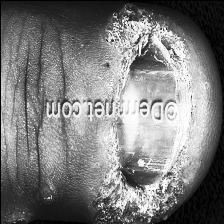Toxin: (86, 122, 192, 224), (104, 10, 194, 98), (0, 210, 31, 224)
